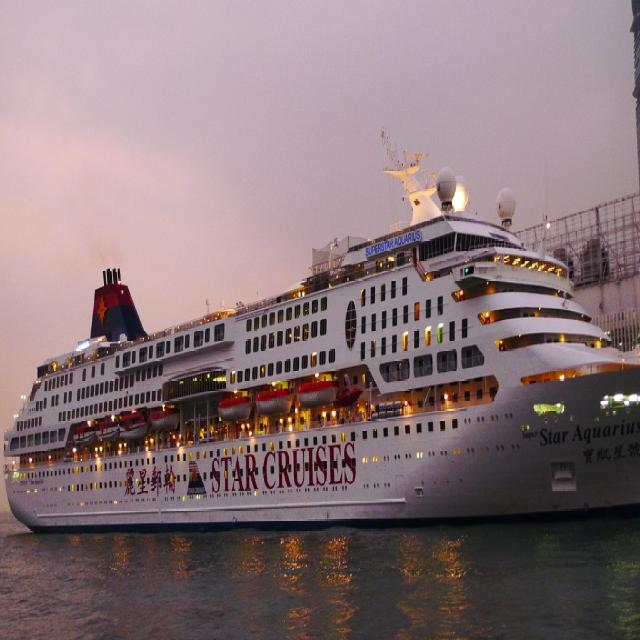Boat: (53, 120, 624, 528)
